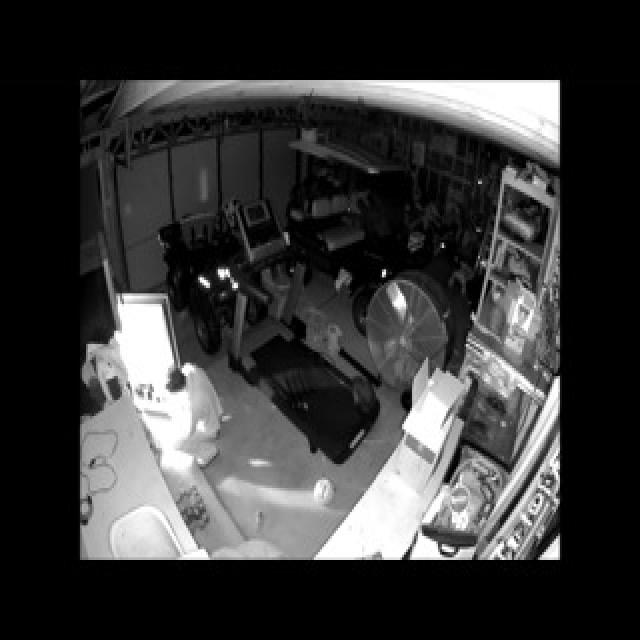thief: (164, 339, 231, 495)
